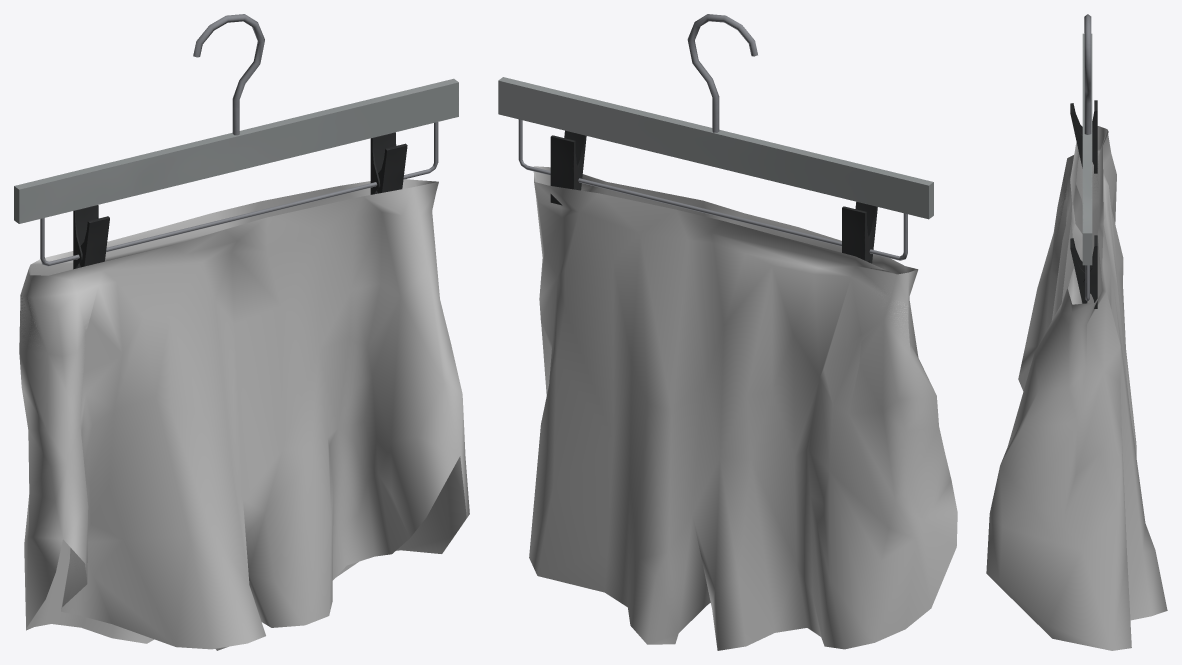
Rendered from shorts.FBX.
The picture shows the model from 3 angles, left to right: view 1: azimuth 30°, elevation 25°; view 2: azimuth 150°, elevation 25°; view 3: azimuth 270°, elevation 25°; orthographic projection. The views are drawn at different scales.
Parts seen in each view (by area): view 1: shorts_LOD0, _Hanger-4_LOD0; view 2: shorts_LOD0, _Hanger-4_LOD0; view 3: shorts_LOD0, _Hanger-4_LOD0.
Part boxes in pixels (<box>): shorts_LOD0: <box>19,179,469,650</box>; _Hanger-4_LOD0: <box>14,14,458,269</box>; shorts_LOD0: <box>529,166,957,650</box>; _Hanger-4_LOD0: <box>498,14,933,263</box>; shorts_LOD0: <box>986,126,1167,650</box>; _Hanger-4_LOD0: <box>1070,14,1097,308</box>.
Size of what is drawn, in the model's own units: 31.92 by 12.24 by 43.48.
